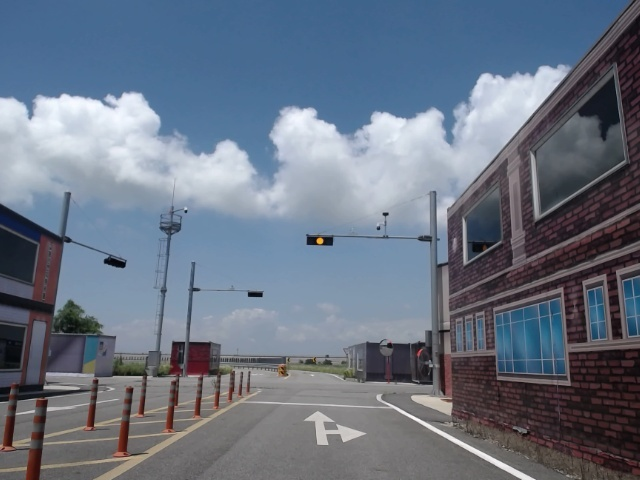orange_3: (307, 237, 334, 245)
